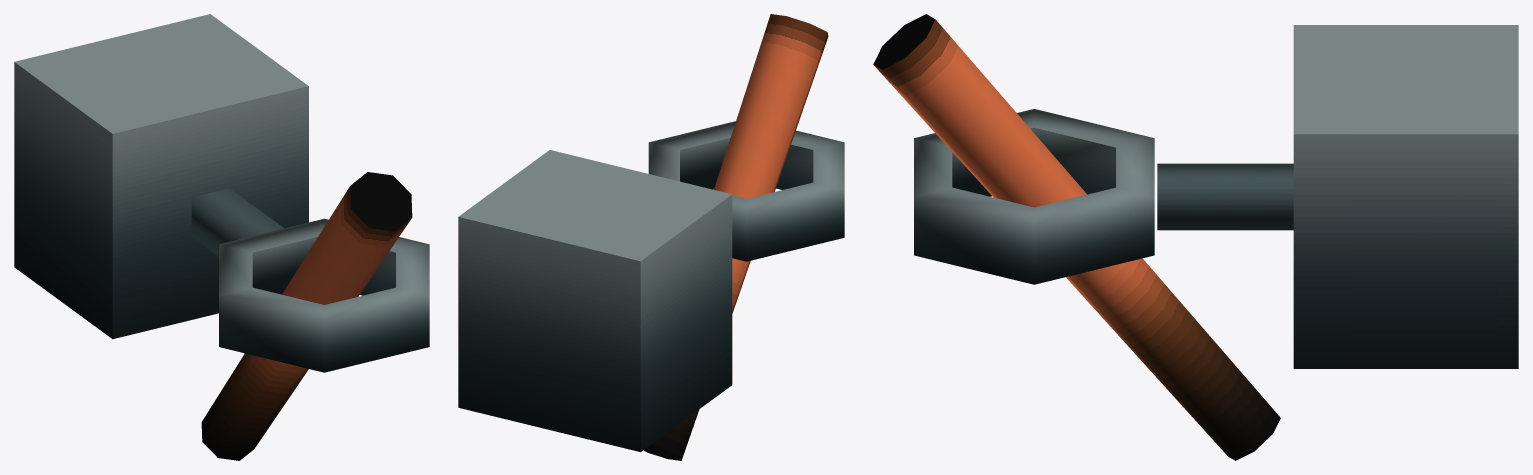
File: torch.fbx
The picture shows the model from 3 angles, left to right: view 1: azimuth 30°, elevation 25°; view 2: azimuth 150°, elevation 25°; view 3: azimuth 270°, elevation 25°; orthographic projection. The views are drawn at different scales.
Parts seen in each view (by area): view 1: torch; view 2: torch; view 3: torch.
Part boxes in pixels (x1=…): torch: x1=14, y1=14, x2=429, y2=460; torch: x1=458, y1=14, x2=844, y2=460; torch: x1=873, y1=14, x2=1518, y2=460.
Bounding box in the file's own units: 1.24 × 2.14 × 2.87.
